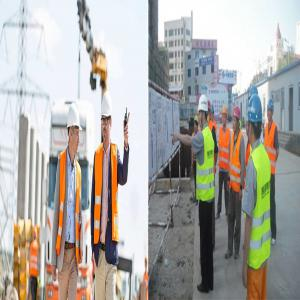blue: (248, 93, 265, 151), (267, 98, 276, 125)
red: (232, 105, 241, 135)
white: (101, 91, 114, 149), (68, 104, 81, 159), (198, 93, 210, 134)
yellow: (222, 106, 229, 130)
